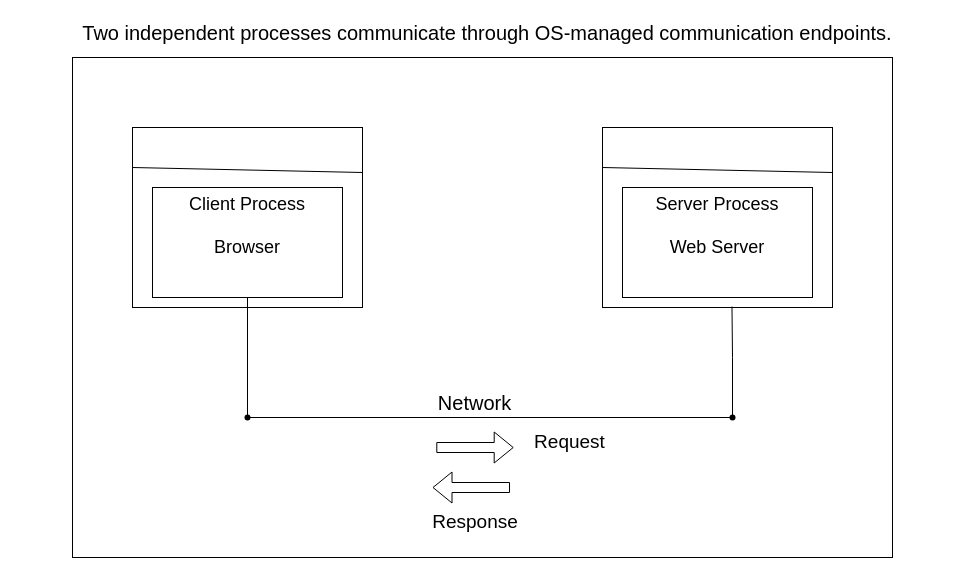
This 974x575 diagram has some shape labels left out. The box of each missing label's shape, as (x1, y1, x2, y2) in pixels:
Client Host: (132, 126, 362, 308)
Server Host: (602, 126, 832, 308)
